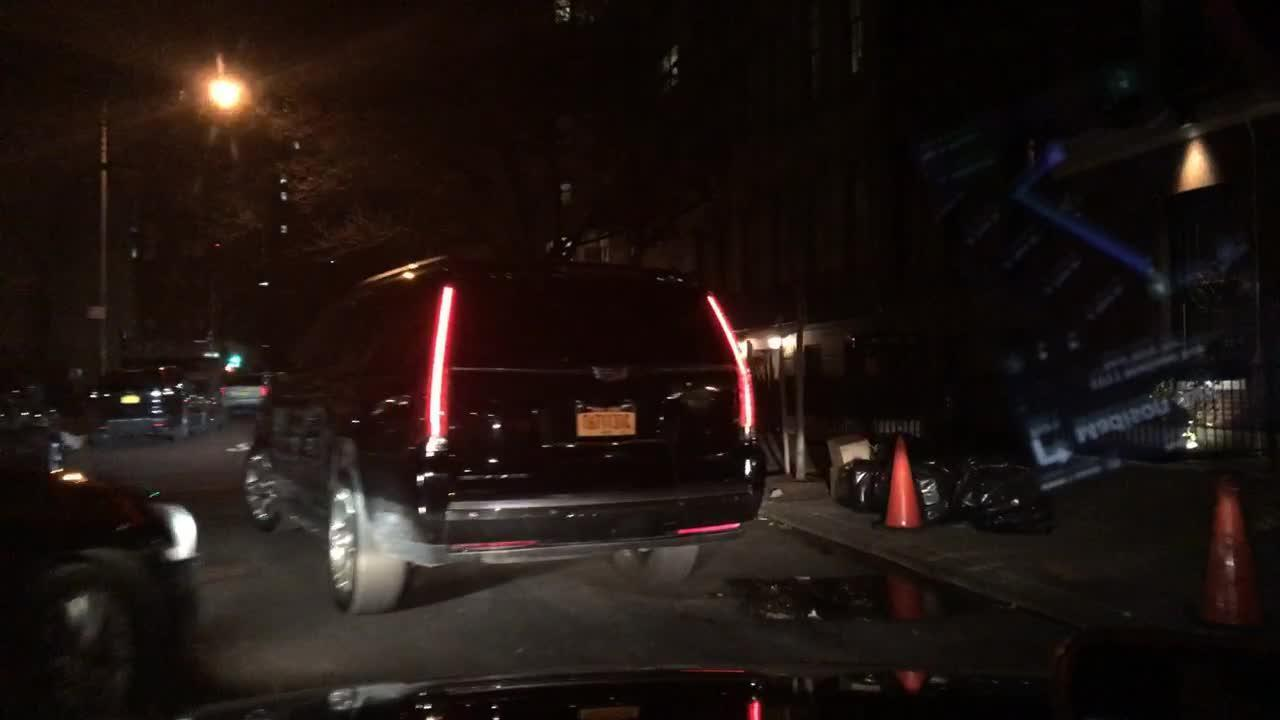cadillac: (585, 356, 641, 391)
